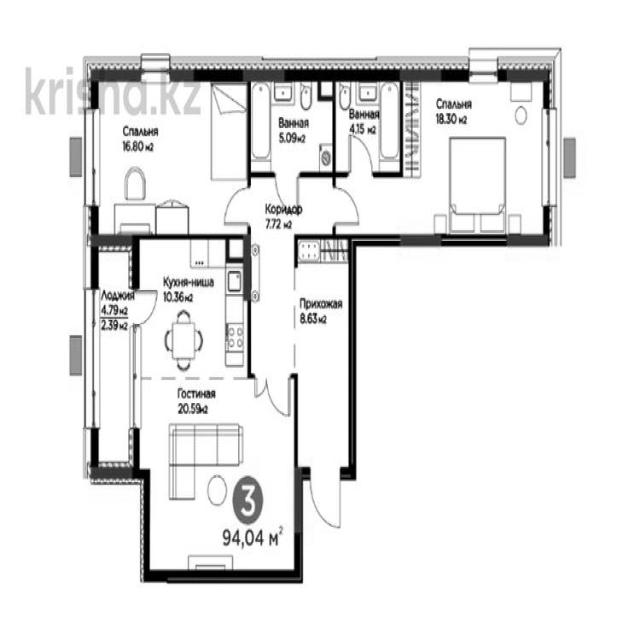balcony: (88, 238, 134, 478)
bathroom: (249, 71, 334, 175), (337, 76, 400, 174)
hallway: (295, 266, 349, 477), (252, 183, 294, 373)
living_room: (91, 69, 247, 237), (404, 76, 550, 241)
studio: (141, 239, 297, 572)
